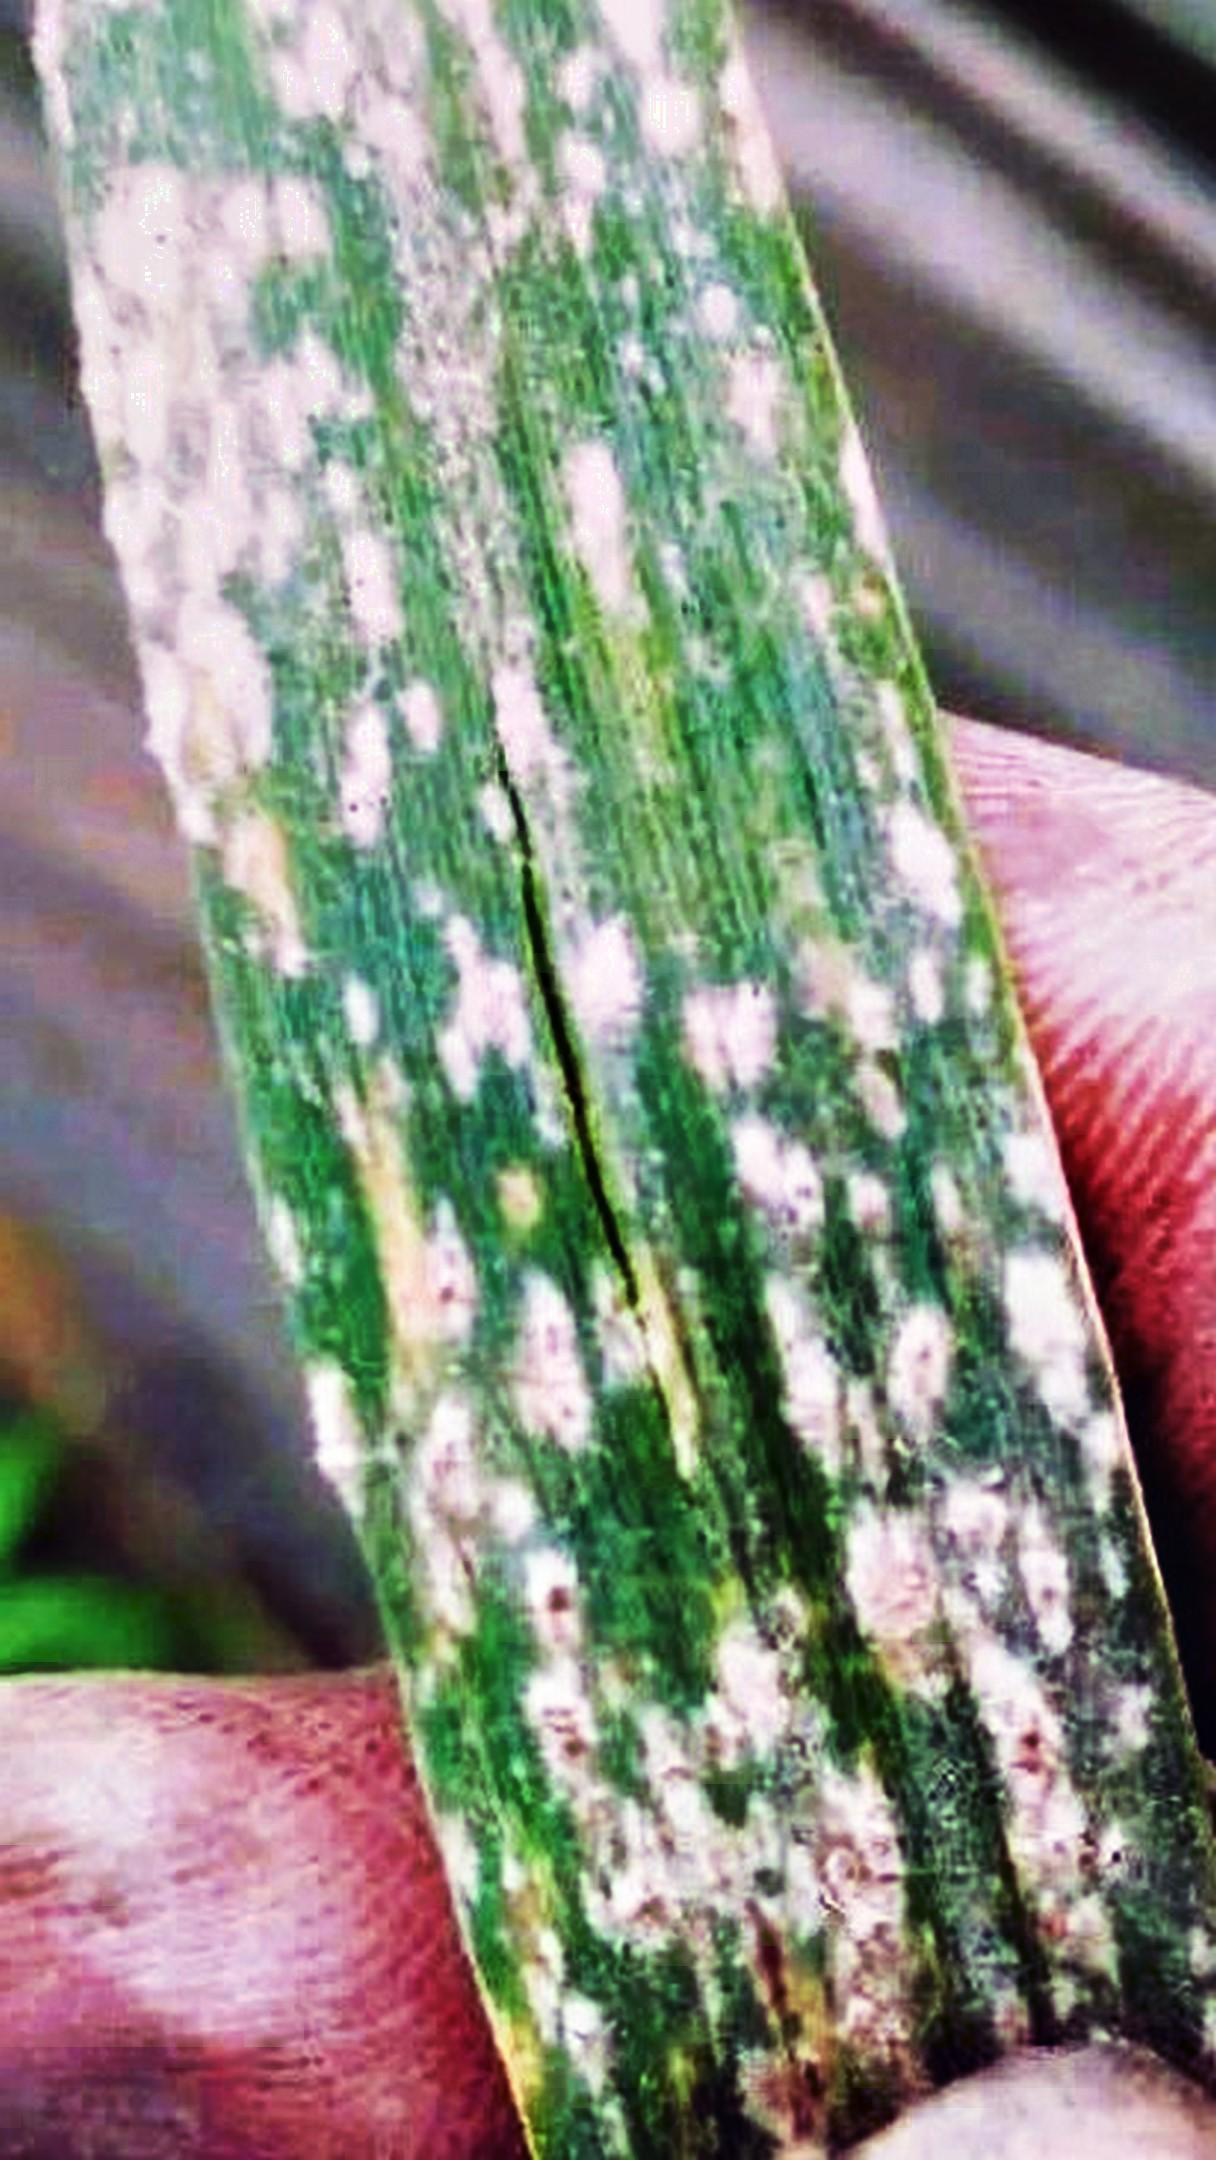Powdery Mildew: (95, 122, 1216, 1995)
